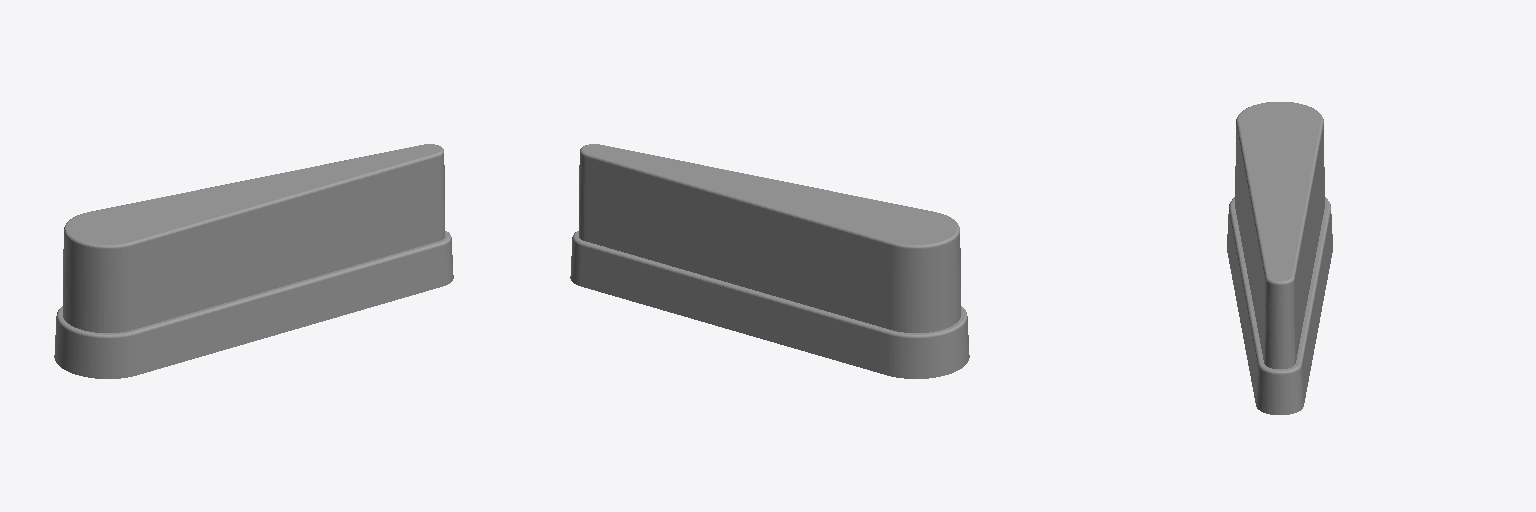
File: Paddle.obj
3 renders of one model, left to right at view 1: azimuth 30°, elevation 25°; view 2: azimuth 150°, elevation 25°; view 3: azimuth 270°, elevation 25°, orthographic.
Visible parts, largest first — view 1: DMD_Flipper_Bat_Mould; view 2: DMD_Flipper_Bat_Mould; view 3: DMD_Flipper_Bat_Mould.
Boxes of the visible parts, x1=… form: DMD_Flipper_Bat_Mould: x1=54, y1=144, x2=453, y2=378; DMD_Flipper_Bat_Mould: x1=570, y1=144, x2=969, y2=378; DMD_Flipper_Bat_Mould: x1=1227, y1=102, x2=1332, y2=414.
Size of the model in its own units: 4.22 by 1.34 by 1.